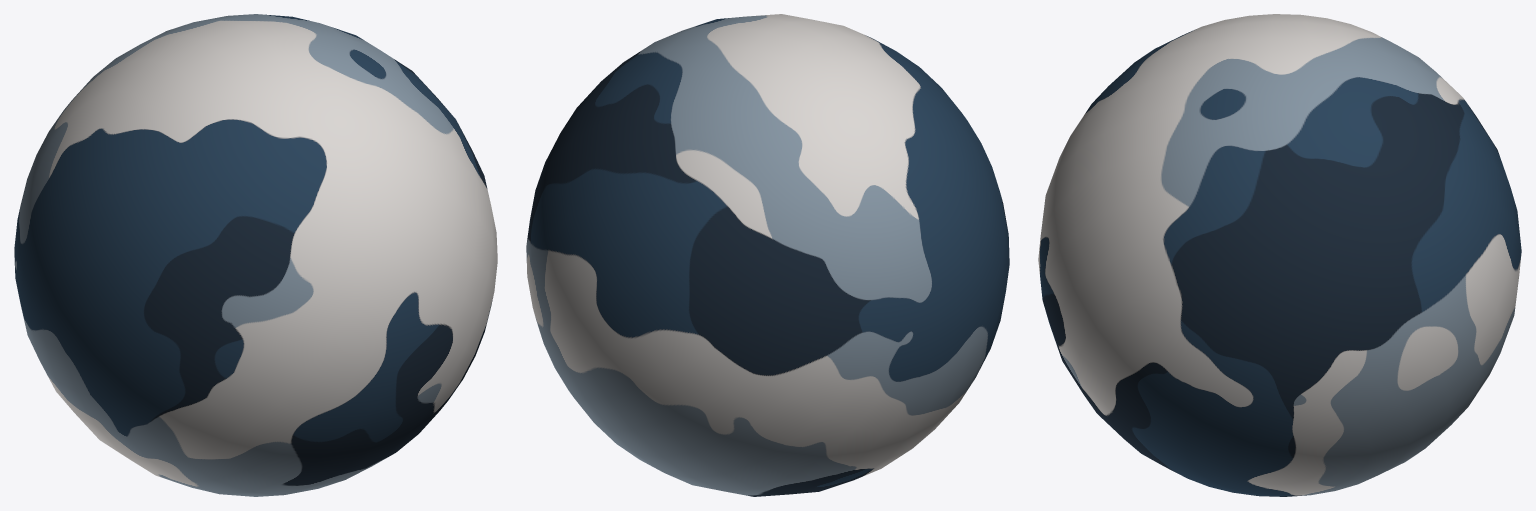
Rendered from ball_blueCamo.gltf.
3 views of the same model, side by side, from view 1: azimuth 30°, elevation 25°; view 2: azimuth 150°, elevation 25°; view 3: azimuth 270°, elevation 25° (orthographic).
Visible parts, largest first — view 1: blueCamo; view 2: blueCamo; view 3: blueCamo.
Boxes of the visible parts, x1,y1,x2,y2 form: blueCamo: (14,14,497,496); blueCamo: (526,14,1009,496); blueCamo: (1038,14,1521,496).
Size of the model in its own units: 0.2498 by 0.2498 by 0.2497.
Materials: 1 (1 with a texture image).
